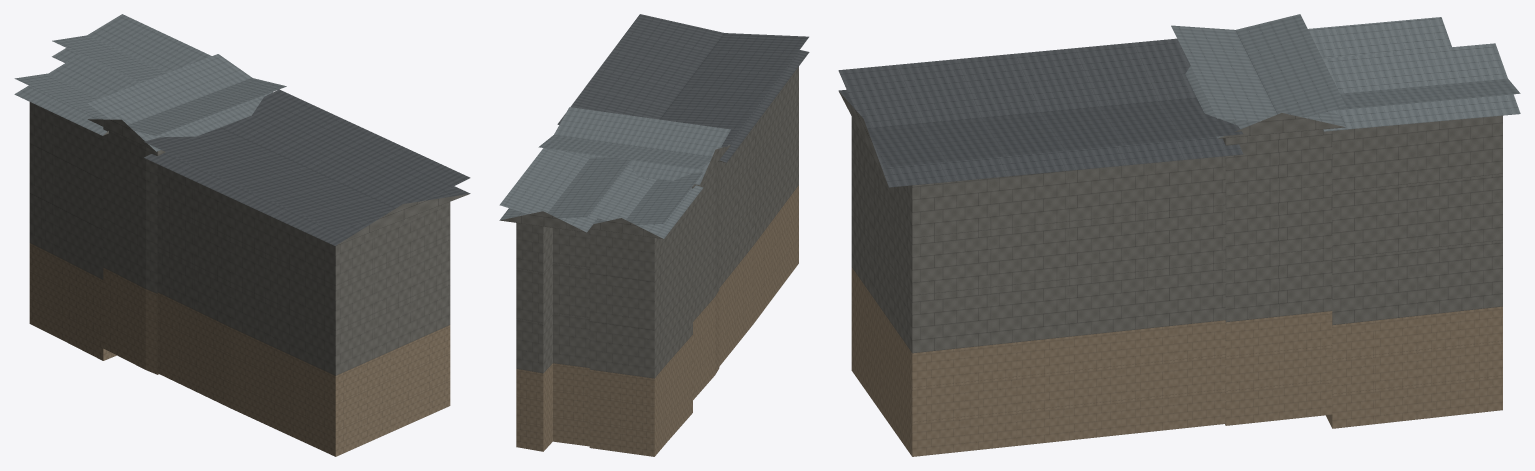
File: bld_c4_5_504.gltf
The picture shows the model from 3 angles, left to right: view 1: azimuth 30°, elevation 25°; view 2: azimuth 150°, elevation 25°; view 3: azimuth 270°, elevation 25°; orthographic projection. The views are drawn at different scales.
Visible parts, largest first — view 1: bld_c4_5_504; view 2: bld_c4_5_504; view 3: bld_c4_5_504.
Boxes of the visible parts, x1=… form: bld_c4_5_504: x1=14, y1=14, x2=470, y2=456; bld_c4_5_504: x1=499, y1=14, x2=809, y2=456; bld_c4_5_504: x1=838, y1=14, x2=1520, y2=456.
Bounding box in the file's own units: 15.86 × 16.2 × 30.43.
Materials: 5 (5 with a texture image).
